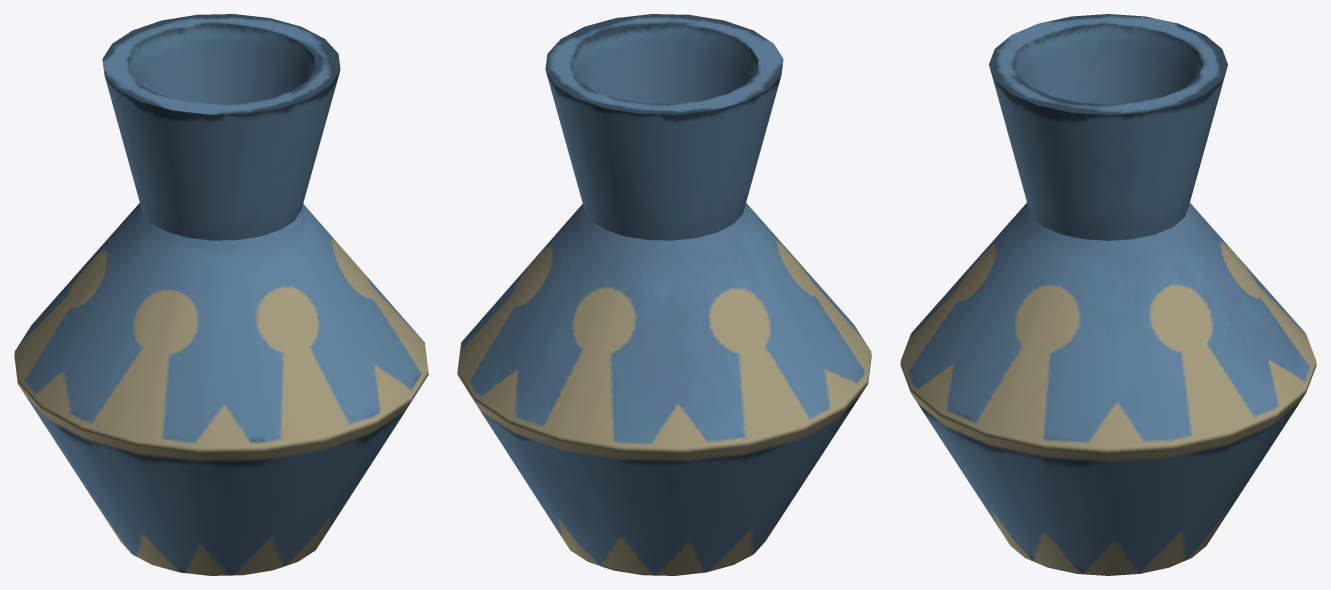
File: POT_Key.fbx
The picture shows the model from 3 angles, left to right: view 1: azimuth 30°, elevation 25°; view 2: azimuth 150°, elevation 25°; view 3: azimuth 270°, elevation 25°; orthographic projection.
Visible parts, largest first — view 1: jar; view 2: jar; view 3: jar.
Part boxes in pixels (x1,y1,x2,y2): jar: (14, 14, 428, 575); jar: (457, 14, 871, 575); jar: (900, 14, 1316, 575).
Bounding box in the file's own units: 242 × 300 × 242.
